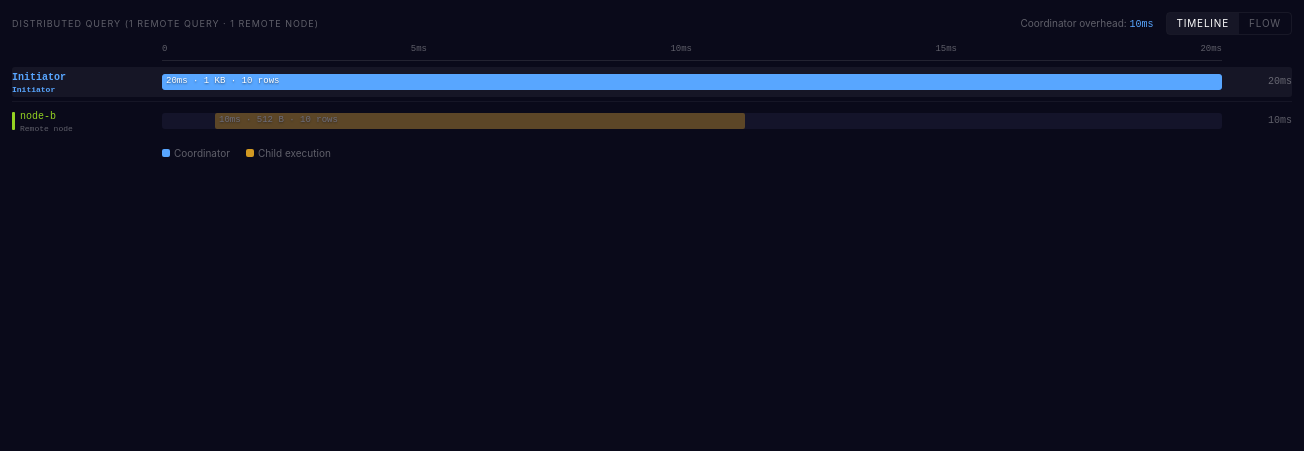
Test: DistributedQueryTopology view coordinate › writes the chosen view to the URL so the link carries it
Click the button "flow": {"x": 1265, "y": 24} [1239,13,1291,34]
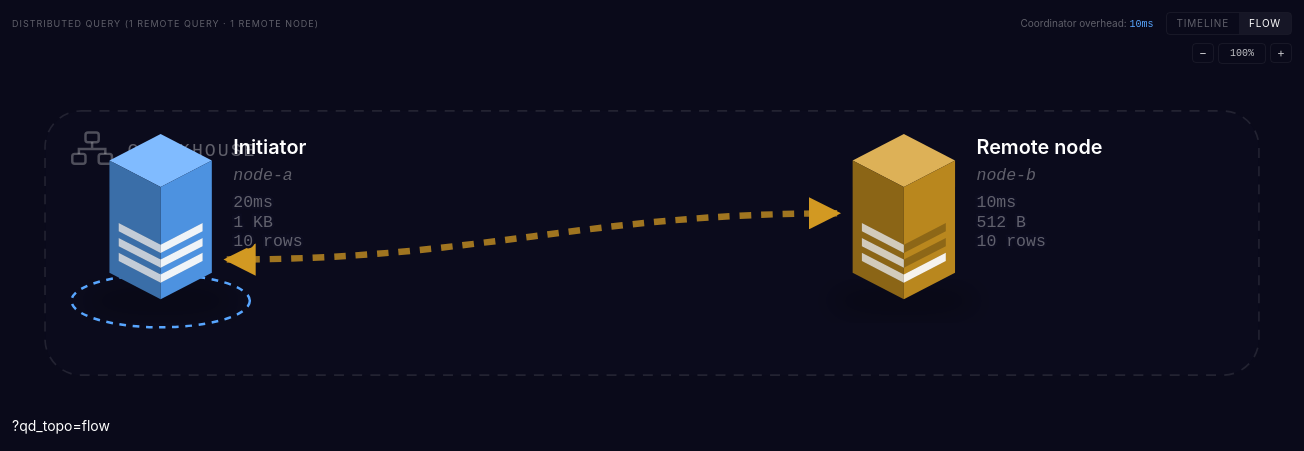
Expected: the text with test id "location-search" shows "qd_topo=flow", [12,417,110,434]
